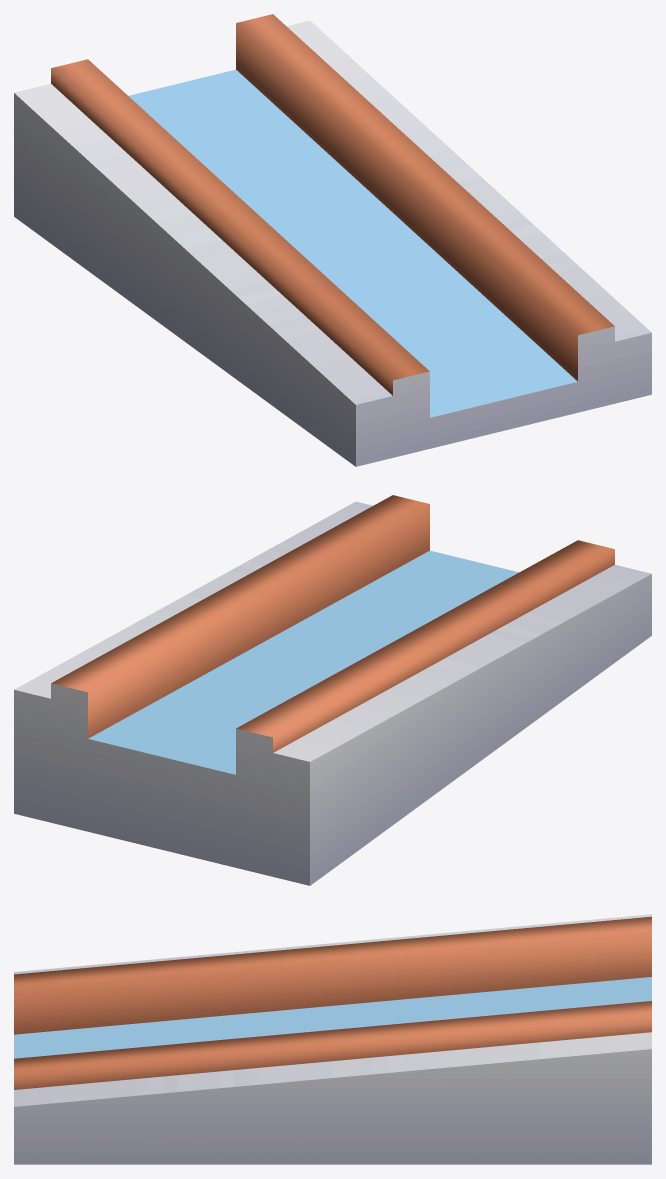
Rendered from snow-tile-river-slope-large.glb.
3 views of the same model, one above another, from view 1: azimuth 30°, elevation 25°; view 2: azimuth 150°, elevation 25°; view 3: azimuth 270°, elevation 25° (orthographic). The views are drawn at different scales.
Visible parts, largest first — view 1: snow-tile-river-slope-large; view 2: snow-tile-river-slope-large; view 3: snow-tile-river-slope-large.
Part boxes in pixels (bbox=[...]): snow-tile-river-slope-large: bbox=[14, 14, 651, 466]; snow-tile-river-slope-large: bbox=[14, 495, 651, 885]; snow-tile-river-slope-large: bbox=[14, 914, 651, 1164].
Bounding box in the file's own units: 1 × 0.45 × 2.
1 material, 1 textured.
